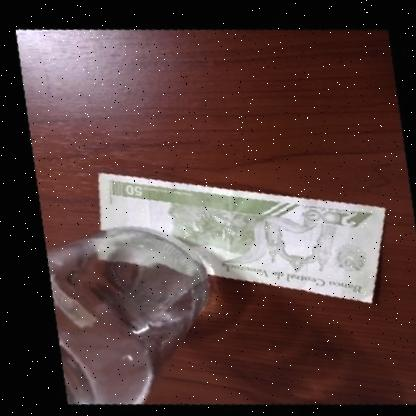vef_back: (85, 170, 389, 303)
